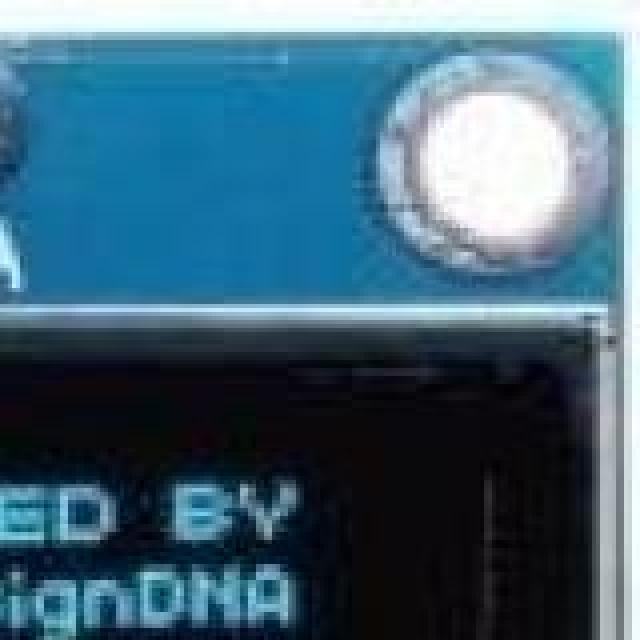display: (0, 308, 628, 640)
